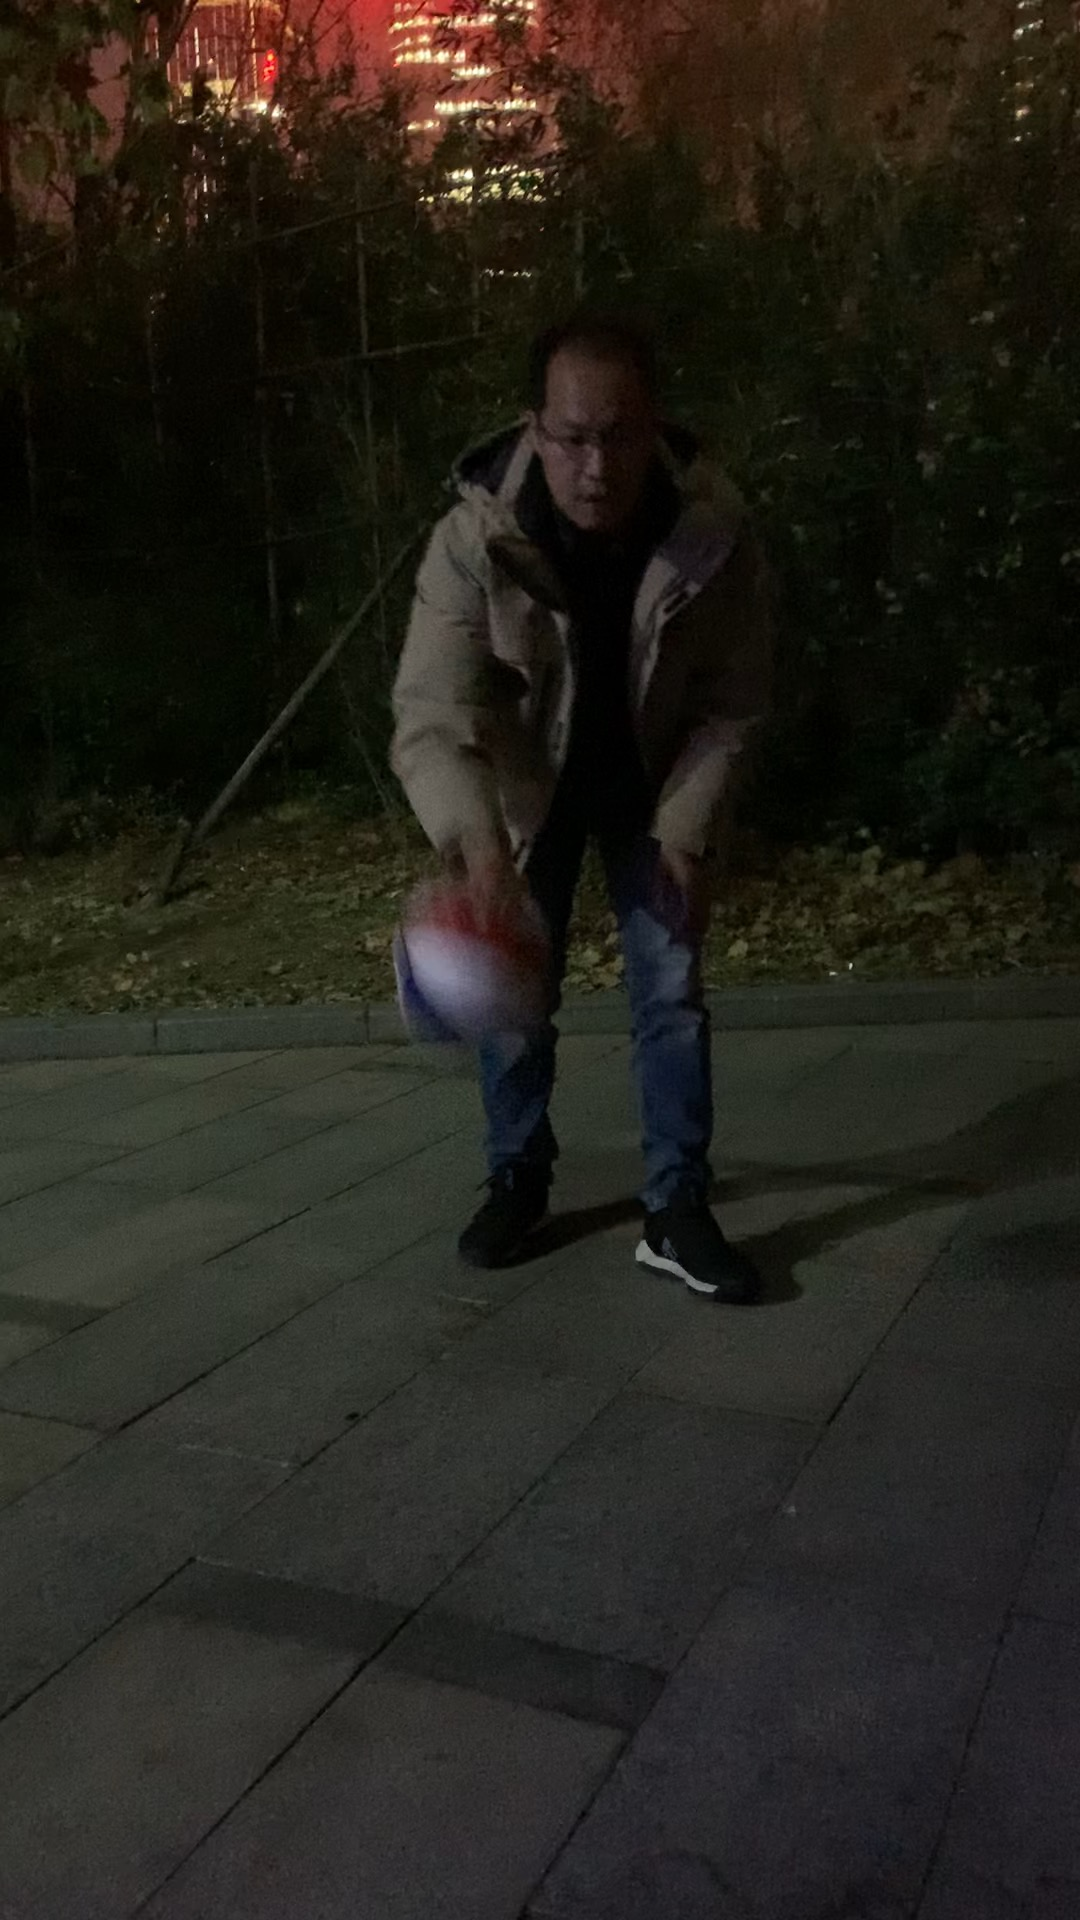ball: (389, 878, 560, 1048)
